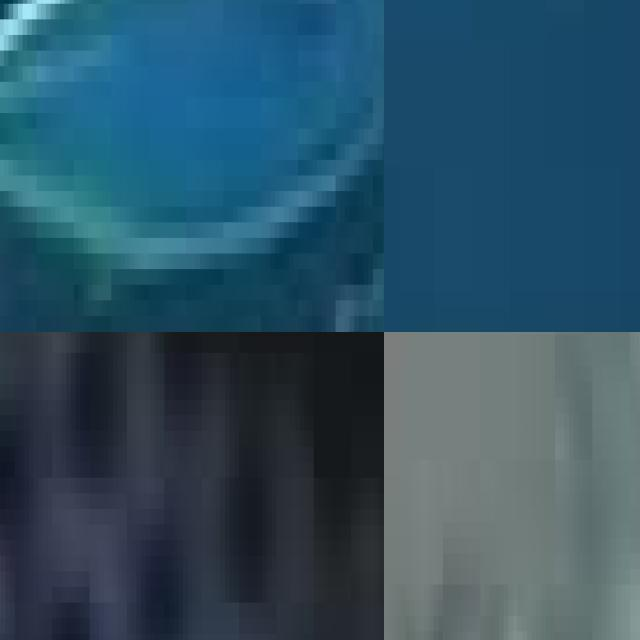fish: (0, 0, 384, 332), (384, 332, 640, 640)
